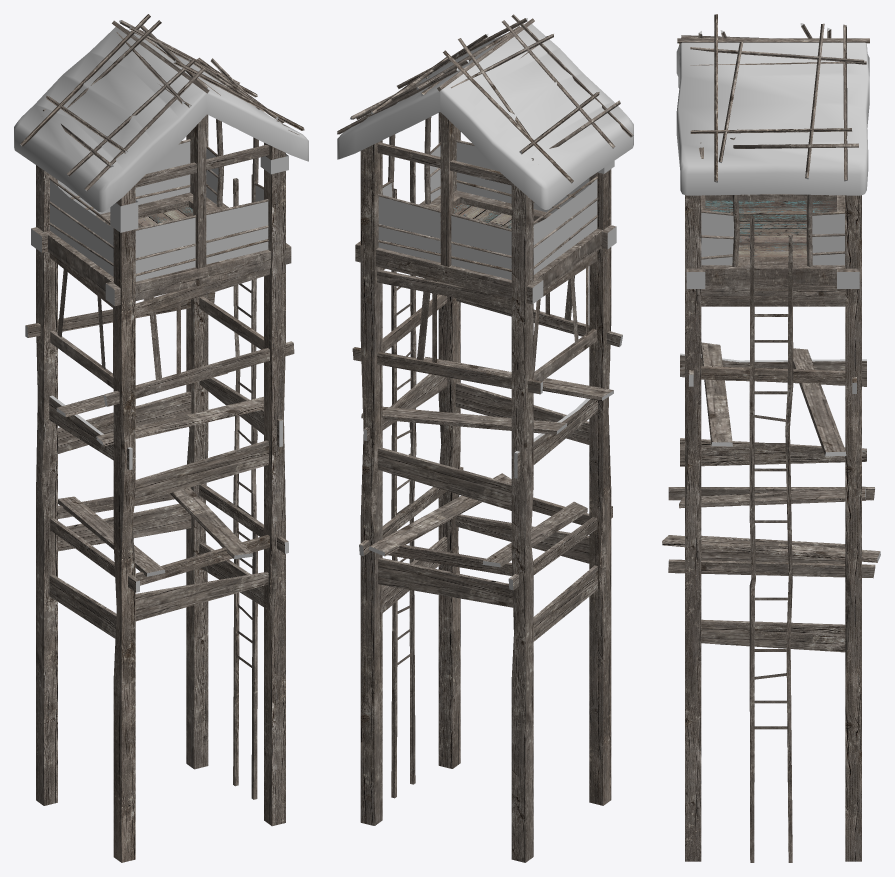
File: Tower1_LOD1.fbx
3 renders of one model, left to right at view 1: azimuth 30°, elevation 25°; view 2: azimuth 150°, elevation 25°; view 3: azimuth 270°, elevation 25°, orthographic. The views are drawn at different scales.
Parts seen in each view (by area): view 1: polySurface2793; view 2: polySurface2793; view 3: polySurface2793.
Boxes of the visible parts, x1,y1,x2,y2 form: polySurface2793: [14, 14, 308, 862]; polySurface2793: [337, 14, 633, 862]; polySurface2793: [662, 14, 880, 862].
Size of the model in its own units: 4.96 by 16.04 by 3.96.
